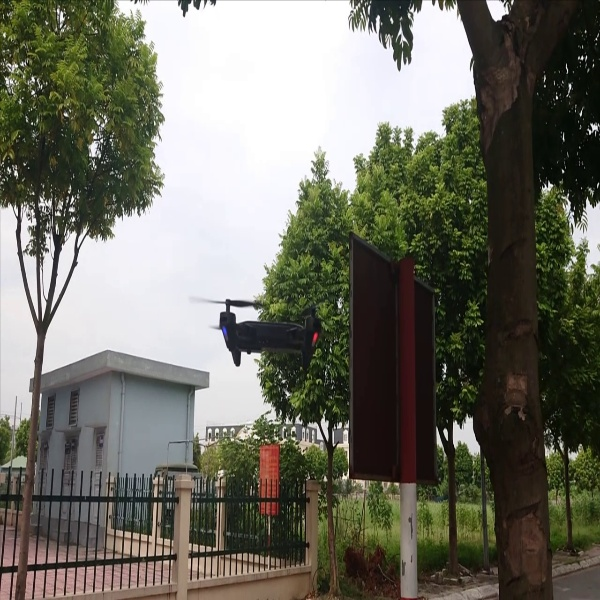drone: (191, 286, 325, 381)
